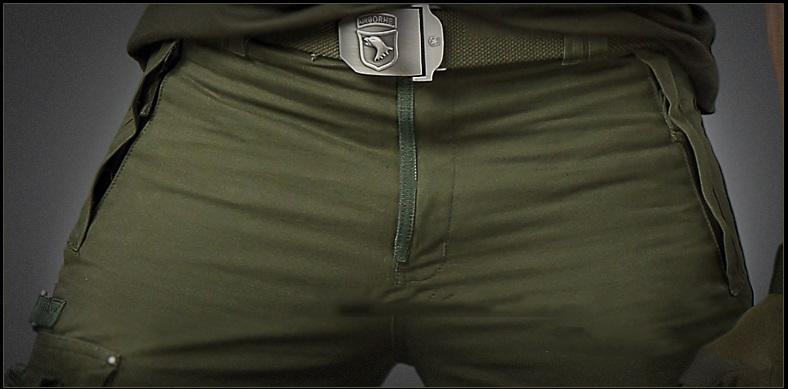pants: (6, 40, 788, 388)
